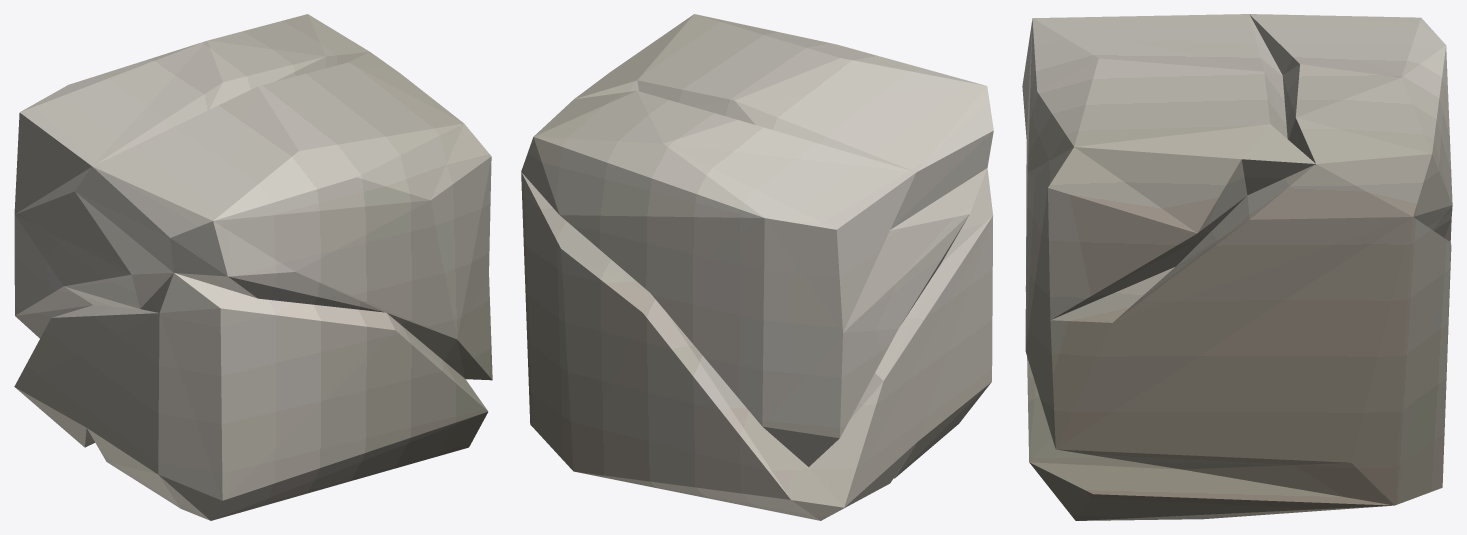
File: 3D_PillarSquare3.fbx
3 views of the same model, side by side, from view 1: azimuth 30°, elevation 25°; view 2: azimuth 150°, elevation 25°; view 3: azimuth 270°, elevation 25° (orthographic). The views are drawn at different scales.
Visible parts, largest first — view 1: PillarSquare3; view 2: PillarSquare3; view 3: PillarSquare3.
Part boxes in pixels (x1,y1,x2,y2): PillarSquare3: [14, 14, 492, 520]; PillarSquare3: [521, 14, 993, 520]; PillarSquare3: [1022, 14, 1452, 520].
Size of the model in its own units: 38.88 by 38.81 by 39.09.
